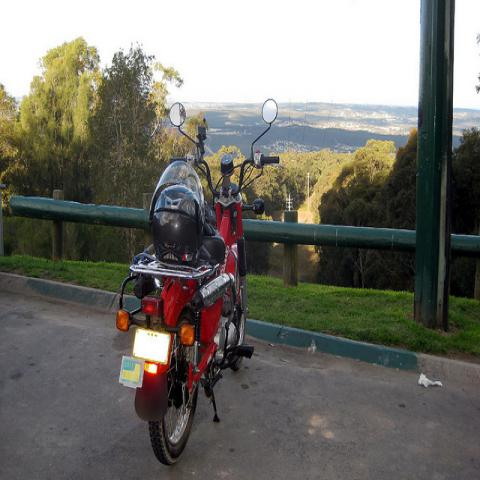motorcycle: (116, 99, 284, 463)
